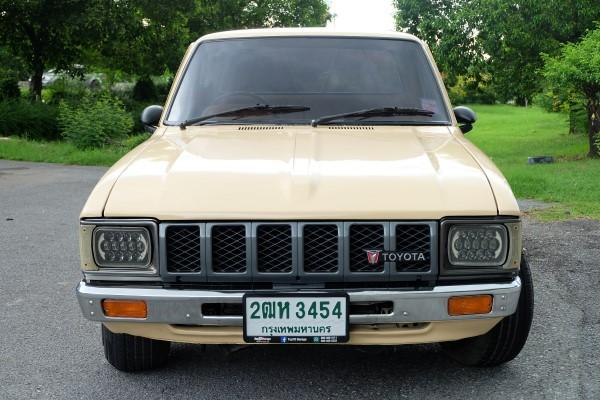license-plate: (242, 289, 351, 346)
